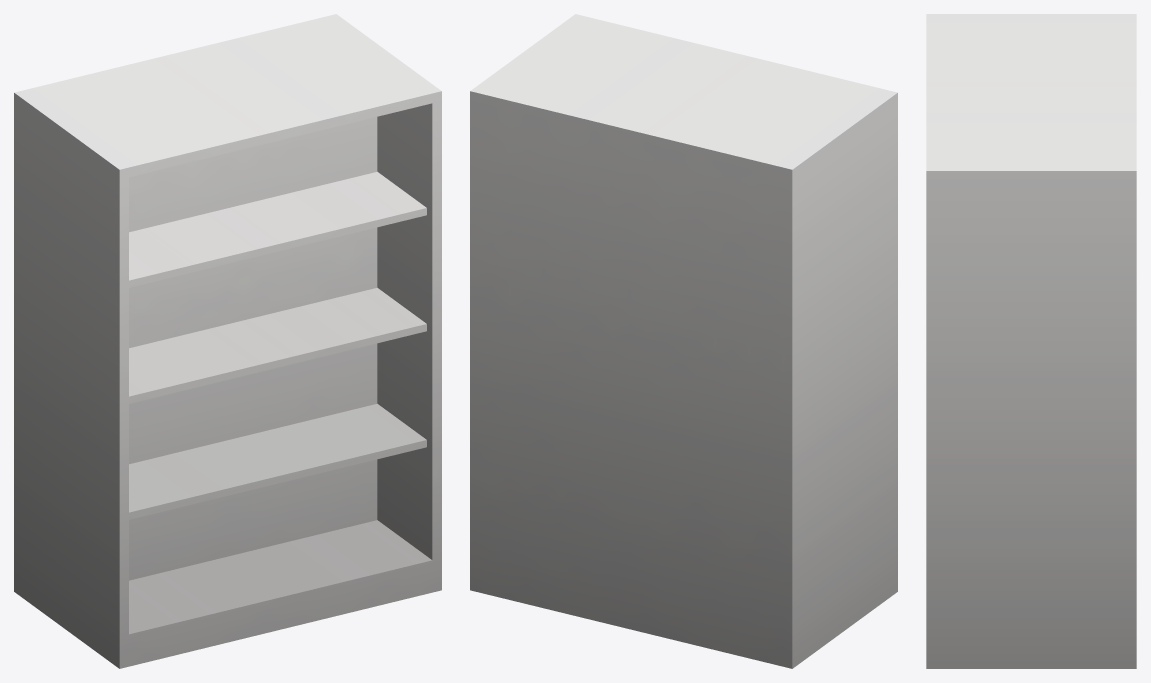
Rendered from Cupboard_Filing.fbx.
3 views of the same model, side by side, from view 1: azimuth 30°, elevation 25°; view 2: azimuth 150°, elevation 25°; view 3: azimuth 270°, elevation 25° (orthographic).
Parts seen in each view (by area): view 1: Cupboard_Filing; view 2: Cupboard_Filing; view 3: Cupboard_Filing.
Boxes of the visible parts, x1,y1,x2,y2 form: Cupboard_Filing: [14, 14, 441, 668]; Cupboard_Filing: [470, 14, 897, 668]; Cupboard_Filing: [926, 14, 1136, 668].
Size of the model in its own units: 120 by 178 by 68.
